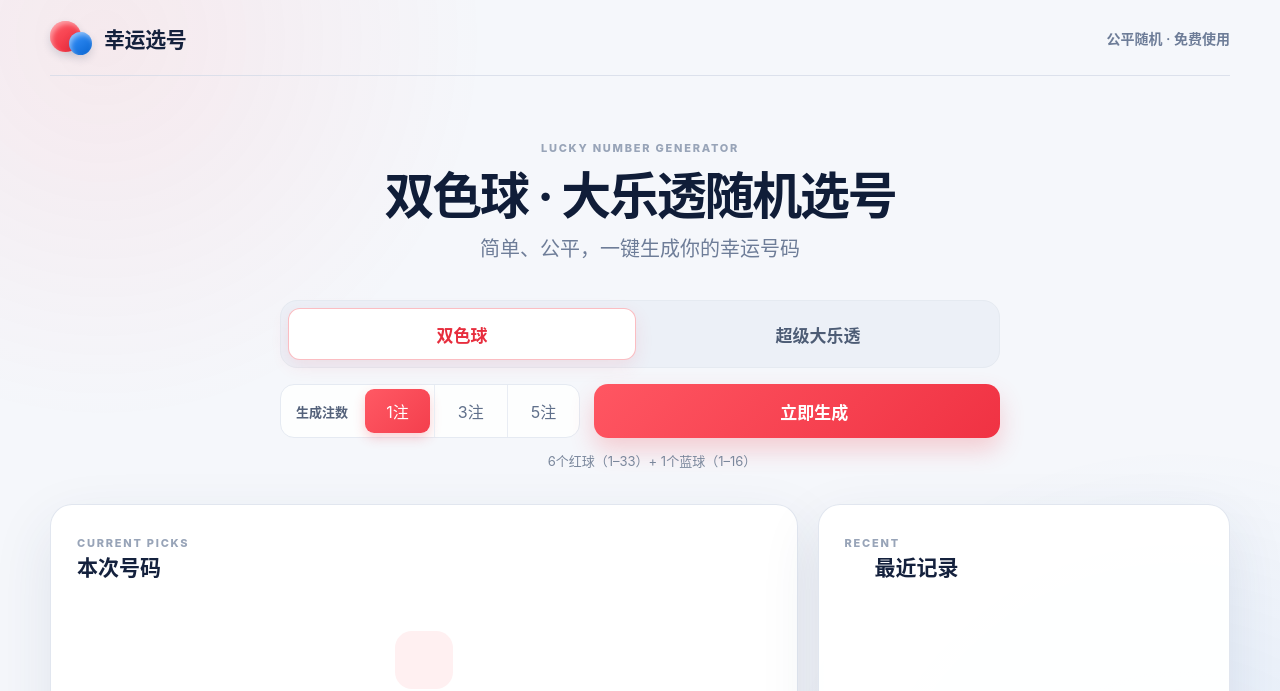
Test: App › switches rules and generates the selected ticket count
Click the tab with id "tab-dlt". click: (818, 334)
box: [644, 308, 992, 360]
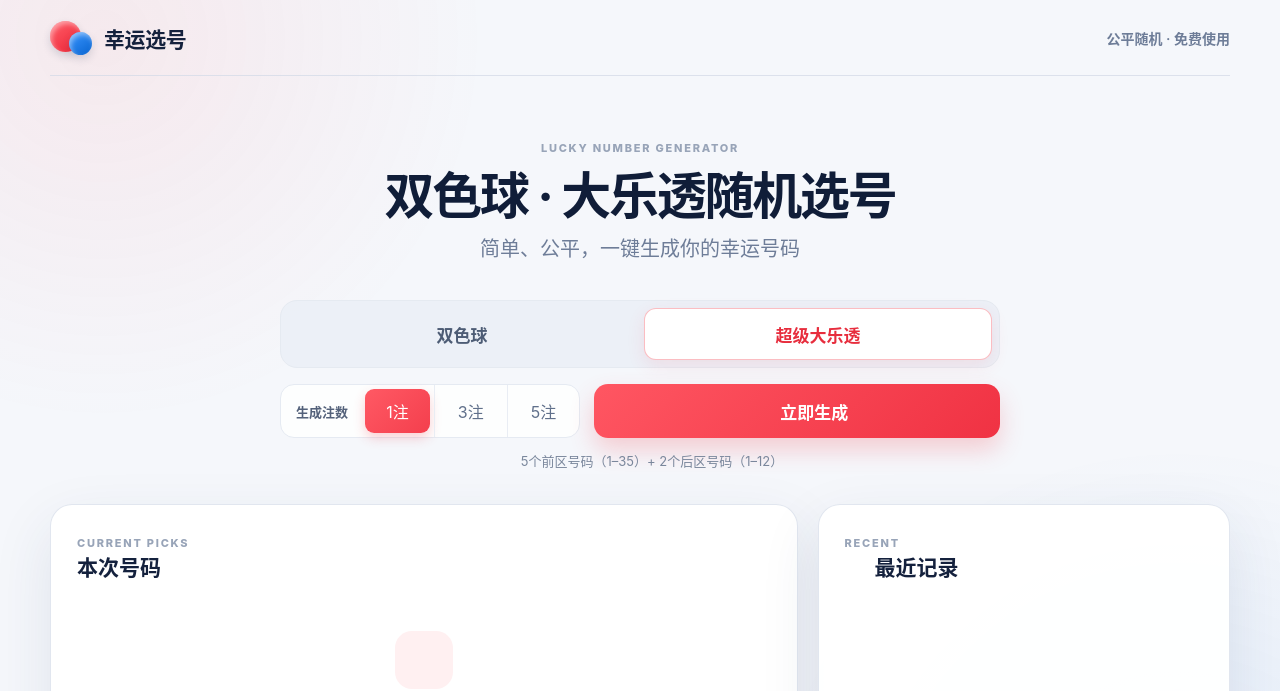
Expected: the text "5个前区号码（1–35）+ 2个后区号码（1–12）" is shown, [521, 453, 783, 469]
Click the button "3注". click: (470, 411)
box: [434, 385, 507, 437]
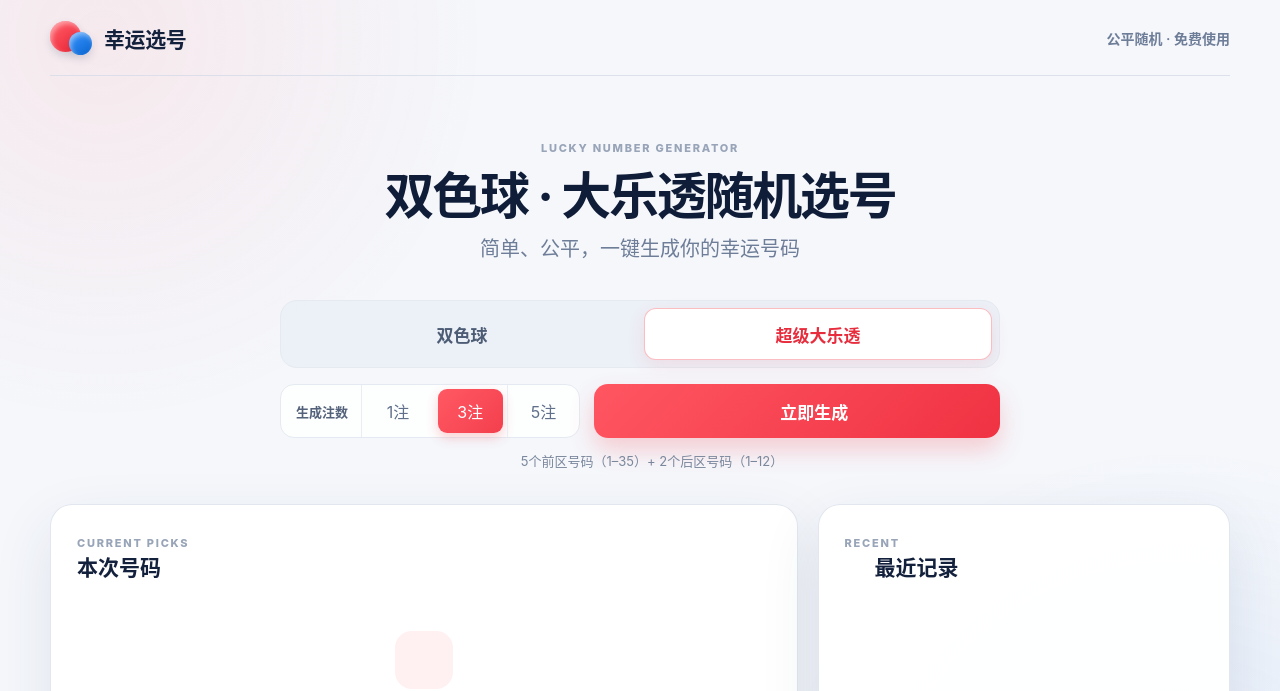
Click the button with class "generate-button". click: (797, 411)
box: [594, 384, 1000, 438]
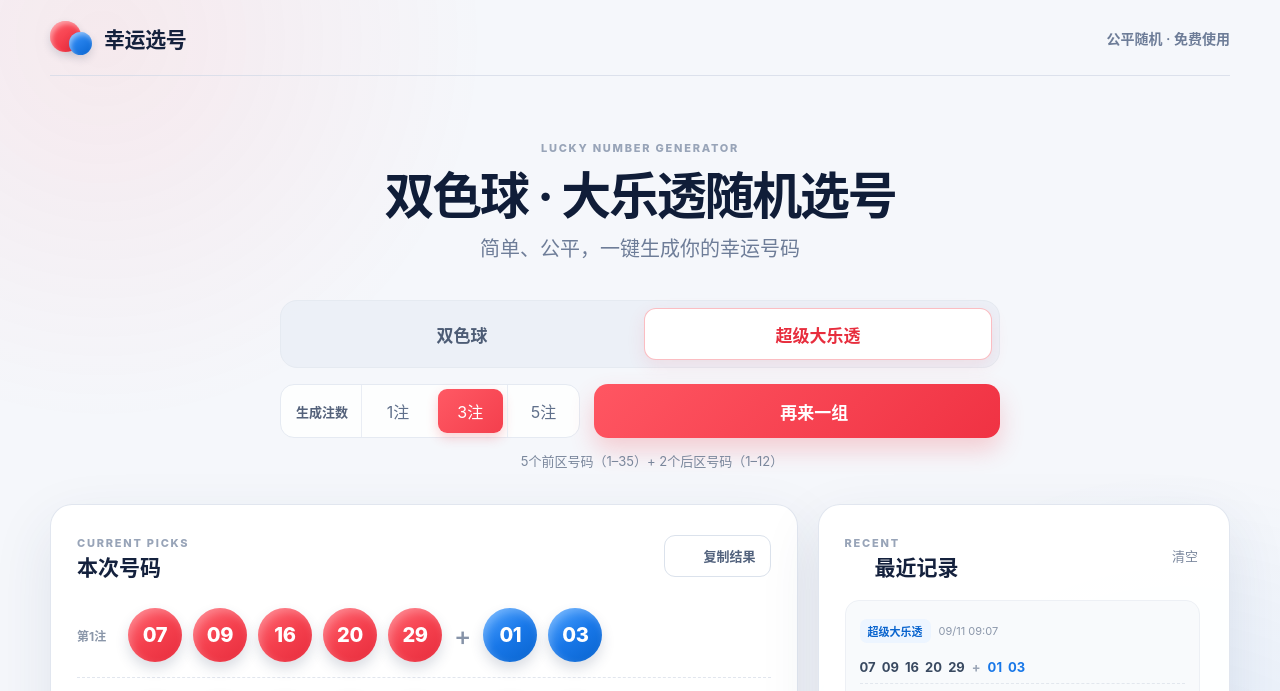
Expected: the number of elements with class "ticket-row" is 3
Expected: the number of elements with class "secondary-ball" is 6
